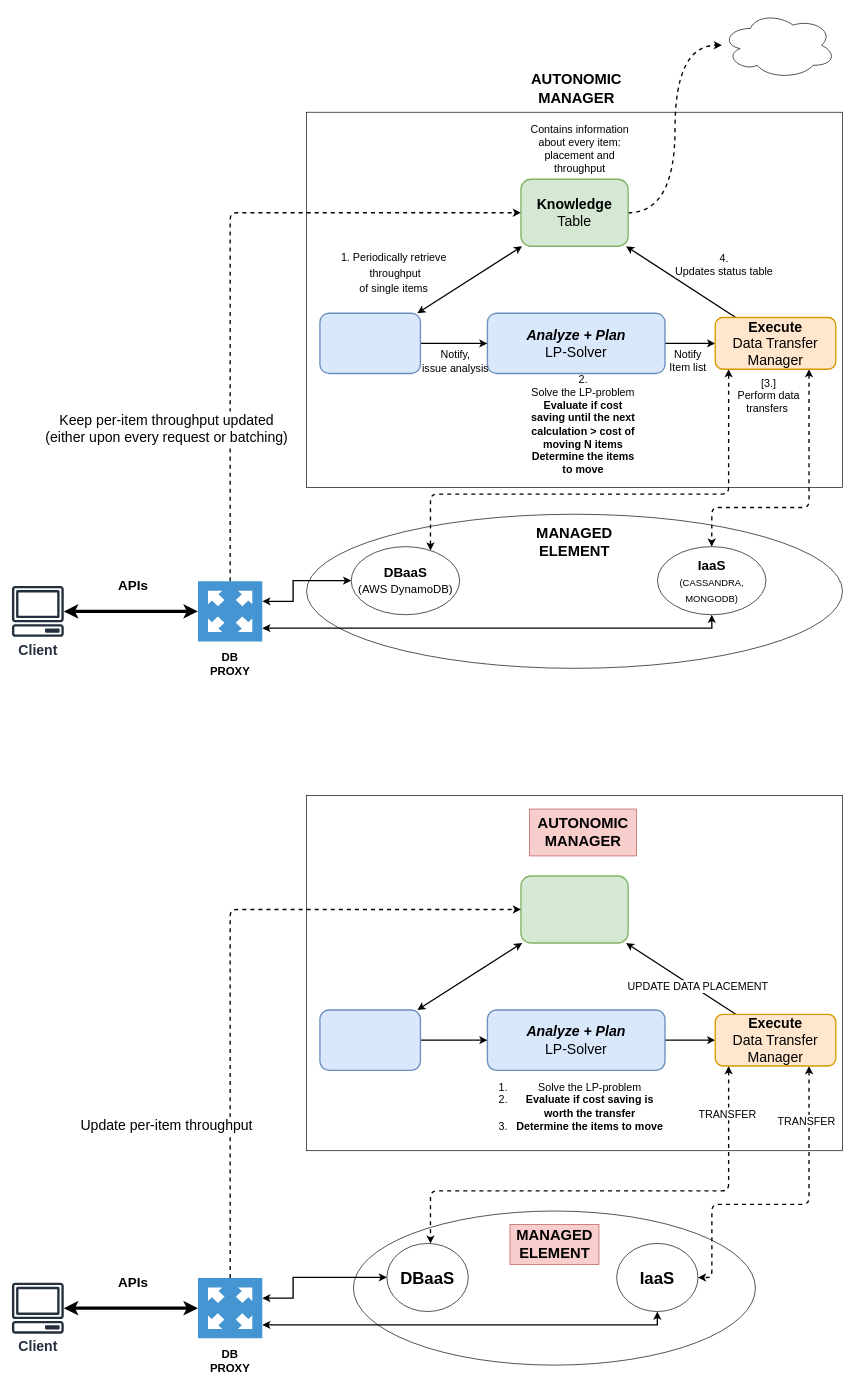
The diagram is 854 pixels wide and 1388 high, and some of its shapes have lost their labels. The centre of each missing label's shape, as x and y in pixels:
"IN-MEMORY OR PERSISTENT??" belongs at pixel 778 45.
"Knowledge Data Placement" belongs at pixel 574 909.
"Monitor DB Client" belongs at pixel 370 343.
"Monitor Retrieve throughputs" belongs at pixel 370 1040.
